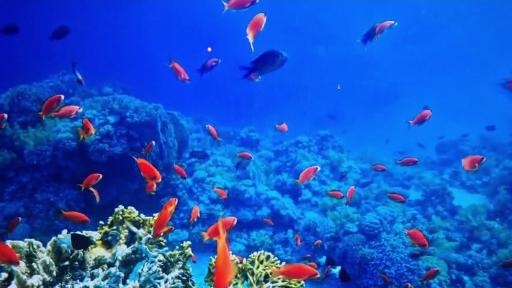Fish: (200, 216, 241, 288), (241, 50, 287, 81), (35, 94, 82, 118), (132, 157, 162, 194), (151, 198, 178, 238), (77, 173, 103, 202), (272, 264, 319, 280), (246, 12, 266, 45), (166, 56, 190, 82), (327, 186, 355, 205), (294, 166, 321, 185), (369, 21, 397, 39), (404, 229, 429, 249), (58, 208, 89, 223), (0, 242, 20, 265), (408, 108, 432, 127), (221, 0, 258, 12), (198, 58, 220, 75), (78, 118, 95, 140), (462, 155, 485, 171), (421, 268, 440, 284), (205, 124, 221, 142), (235, 151, 254, 165), (73, 62, 84, 84), (173, 164, 187, 179), (396, 157, 419, 166), (212, 186, 227, 199), (189, 205, 199, 224), (386, 193, 405, 202), (143, 141, 155, 155), (275, 122, 287, 132), (371, 164, 387, 171), (295, 234, 301, 246), (264, 218, 273, 225)
